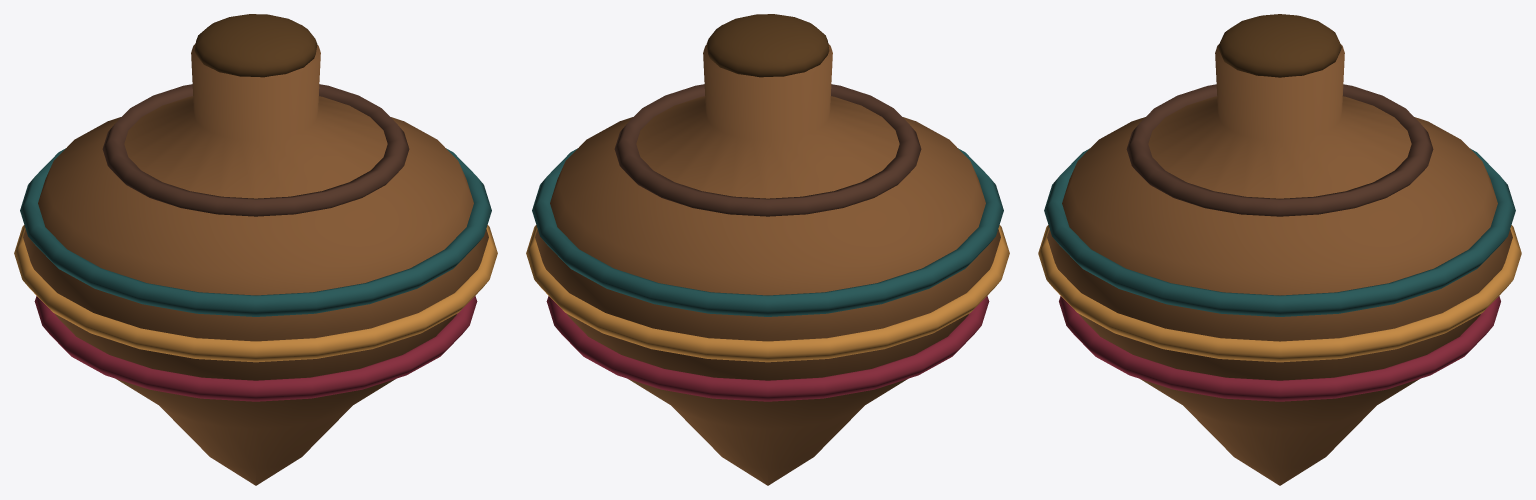
The model's file is mia-top.glb.
The picture shows the model from 3 angles, left to right: view 1: azimuth 30°, elevation 25°; view 2: azimuth 150°, elevation 25°; view 3: azimuth 270°, elevation 25°; orthographic projection.
Visible parts, largest first — view 1: Body_oak, Body_teal, Body_brass, Body_velvet, Body_glaze, Body_wood; view 2: Body_oak, Body_teal, Body_brass, Body_velvet, Body_glaze, Body_wood; view 3: Body_oak, Body_teal, Body_brass, Body_velvet, Body_glaze, Body_wood.
Boxes of the visible parts, x1,y1,x2,y2 form: Body_oak: (23, 43, 488, 485); Body_teal: (20, 148, 491, 316); Body_brass: (14, 225, 497, 362); Body_velvet: (34, 296, 477, 401); Body_glaze: (102, 84, 409, 216); Body_wood: (194, 14, 317, 77); Body_oak: (535, 43, 1000, 485); Body_teal: (532, 148, 1003, 316); Body_brass: (526, 225, 1009, 362); Body_velvet: (546, 296, 989, 401); Body_glaze: (614, 84, 921, 216); Body_wood: (706, 14, 829, 77); Body_oak: (1047, 44, 1512, 485); Body_teal: (1044, 148, 1515, 316); Body_brass: (1038, 225, 1521, 362); Body_velvet: (1059, 296, 1500, 401); Body_glaze: (1126, 84, 1433, 216); Body_wood: (1218, 14, 1341, 77).
Size of the model in its own units: 0.164 by 0.172 by 0.164.
